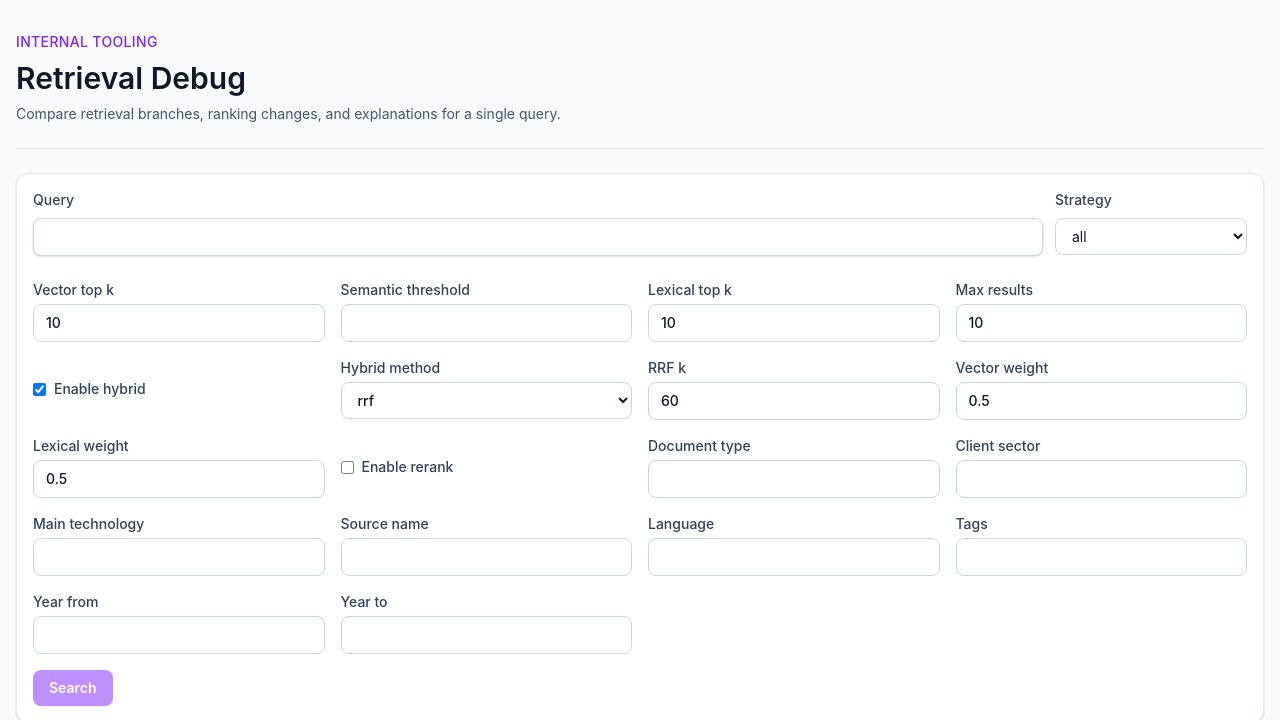
Test: RetrievalDebugPage › disables search while loading
This screenshot has width=1280, height=720.
Type "OAuth backend" into the search field labelled "Query".
click(538, 237); type("OAuth backend")  # box [33,218,1043,256]
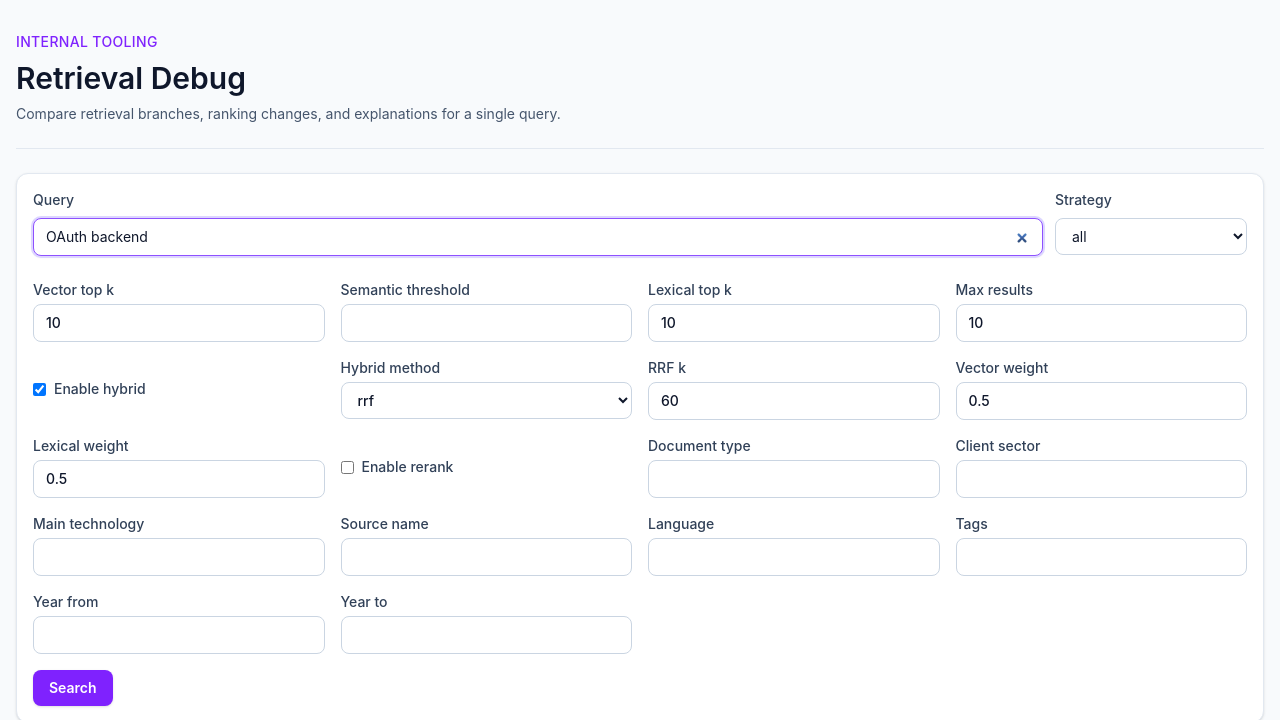
Click the button "Search".
click(73, 688)  # box [33,670,112,706]
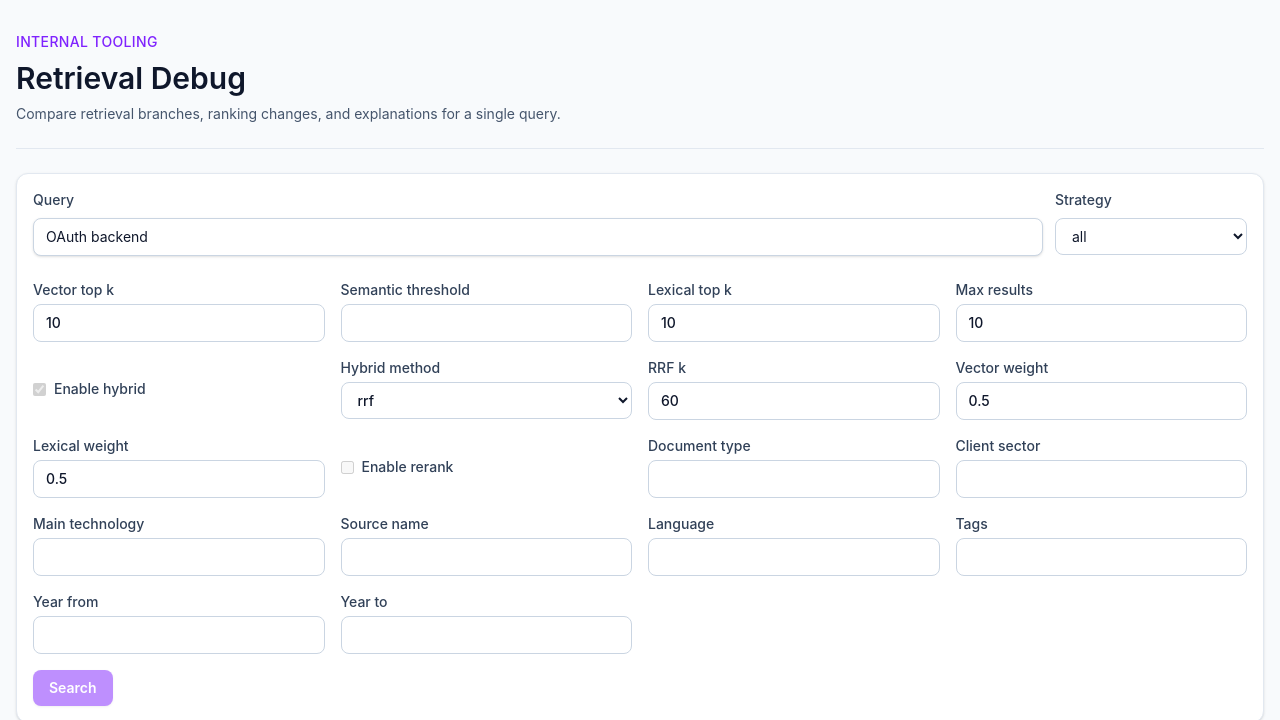
expect the button "Search" is disabled: met, box [33,670,112,706]
